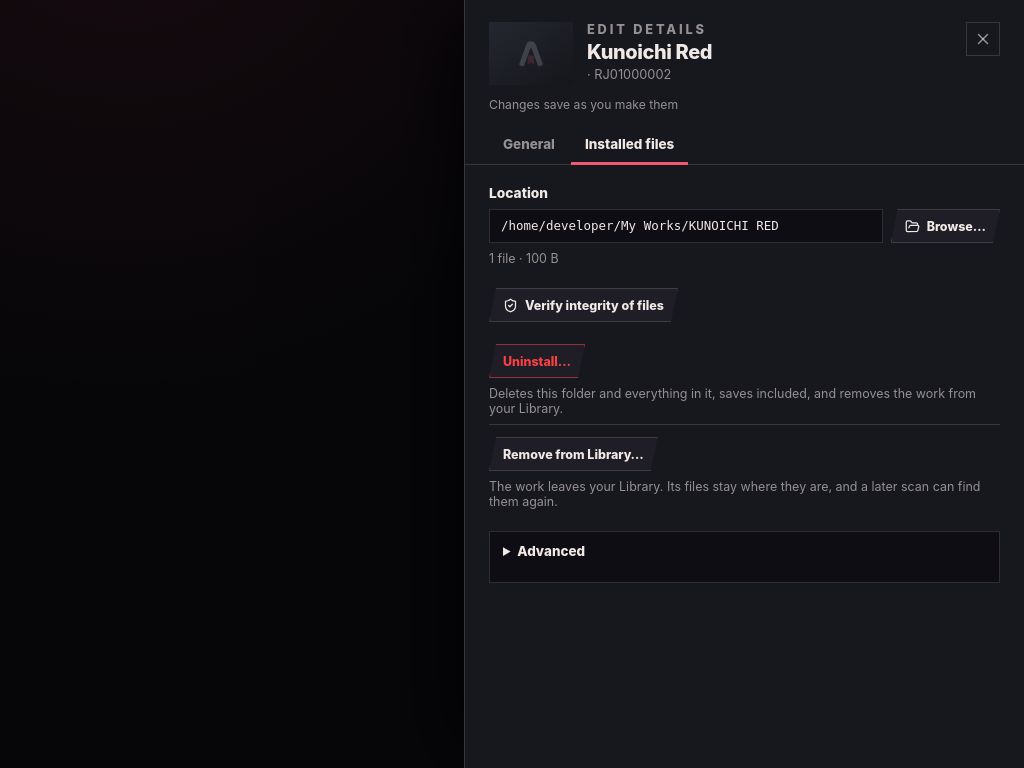
Test: LibraryManageDrawer › counts a single file in the singular
Expected: the text "1 file · 100 B" is shown, [489,251,559,266]
Step 1. Click the button "Verify integrity of files" → x=584, y=305, box [489,288,678,322]
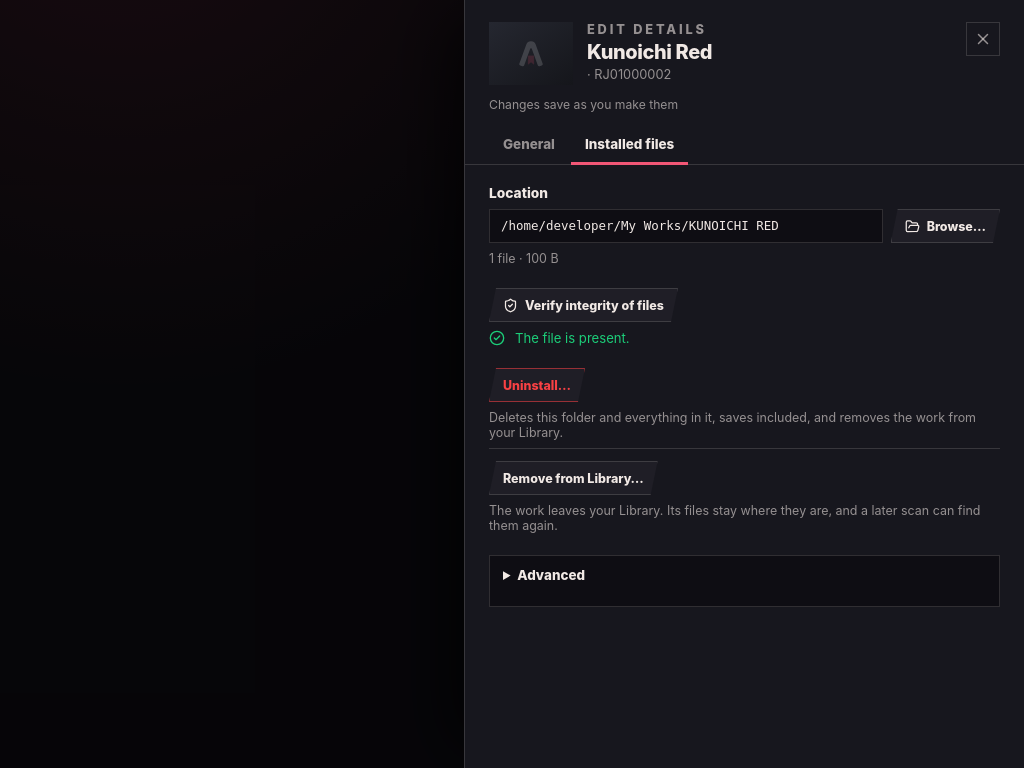
Now the text "The file is present." is shown, box [489,330,630,346]
